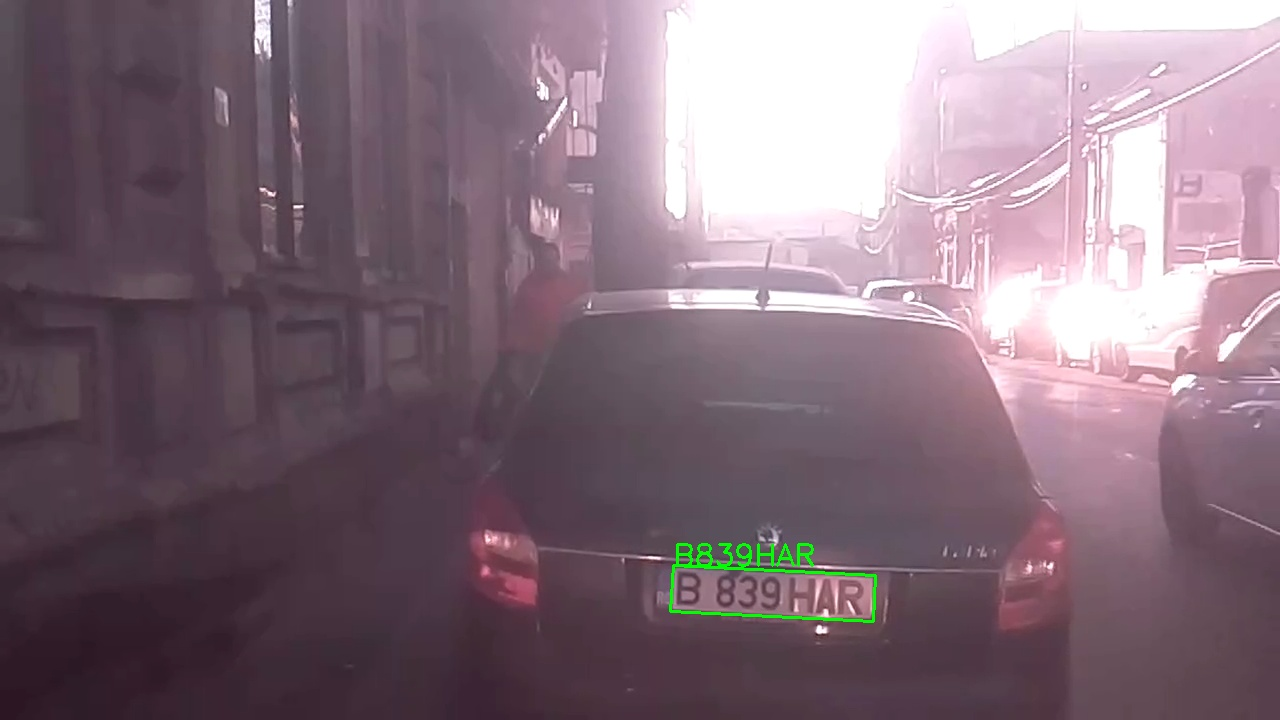license-plate: (670, 565, 876, 622)
